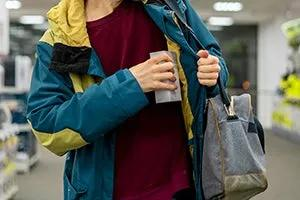shoplifting: (63, 15, 279, 178)
